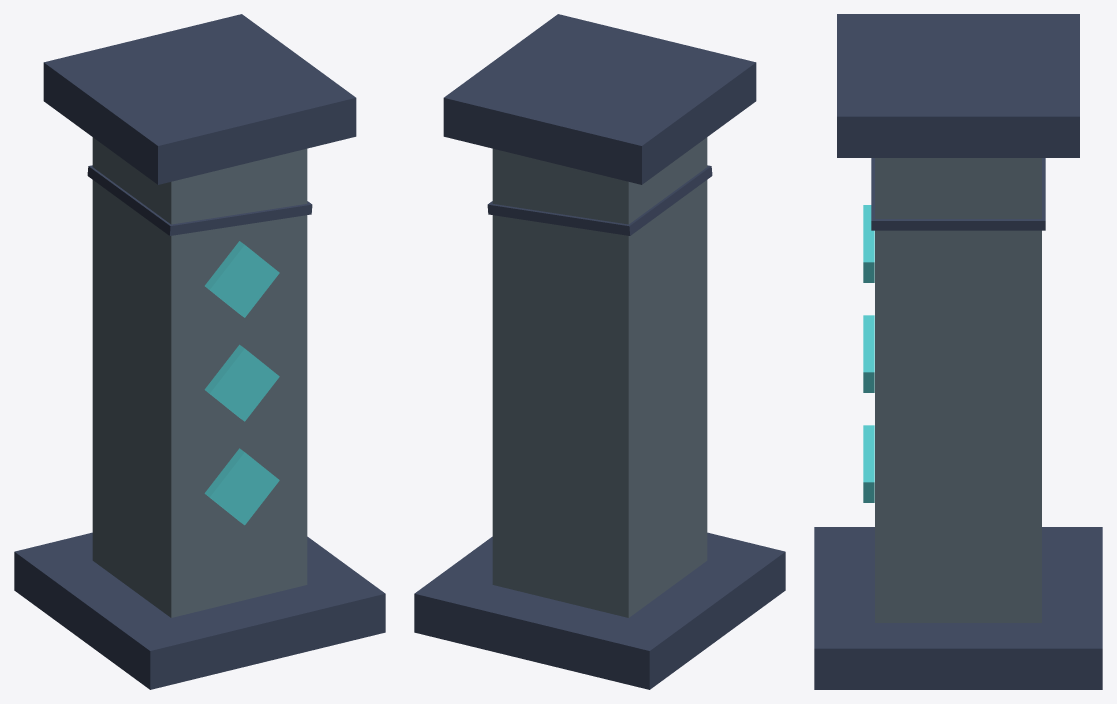
File: AshenRunePillar.glb
The picture shows the model from 3 angles, left to right: view 1: azimuth 30°, elevation 25°; view 2: azimuth 150°, elevation 25°; view 3: azimuth 270°, elevation 25°; orthographic projection. The views are drawn at different scales.
Visible parts, largest first — view 1: AshenRunePillar; view 2: AshenRunePillar; view 3: AshenRunePillar.
Part boxes in pixels (x1=…): AshenRunePillar: x1=14, y1=14, x2=385, y2=689; AshenRunePillar: x1=414, y1=14, x2=785, y2=689; AshenRunePillar: x1=814, y1=14, x2=1102, y2=689.
Bounding box in the file's own units: 3.8 × 8.2 × 3.8.
